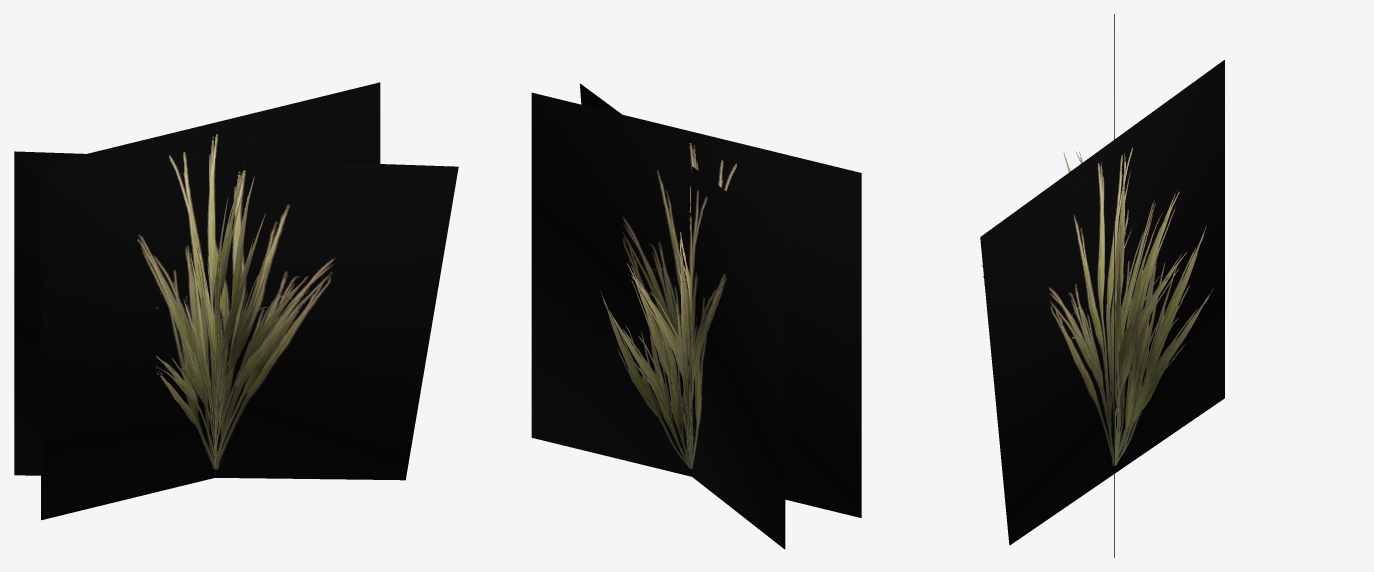
The model's file is grass1.fbx.
3 renders of one model, left to right at view 1: azimuth 30°, elevation 25°; view 2: azimuth 150°, elevation 25°; view 3: azimuth 270°, elevation 25°, orthographic. The views are drawn at different scales.
Parts seen in each view (by area): view 1: Grass-01; view 2: Grass-01; view 3: Grass-01.
Boxes of the visible parts, <box> form: Grass-01: <box>14,82,458,520</box>; Grass-01: <box>531,83,861,549</box>; Grass-01: <box>980,14,1224,557</box>.
Bounding box in the file's own units: 125 × 134 × 133.
